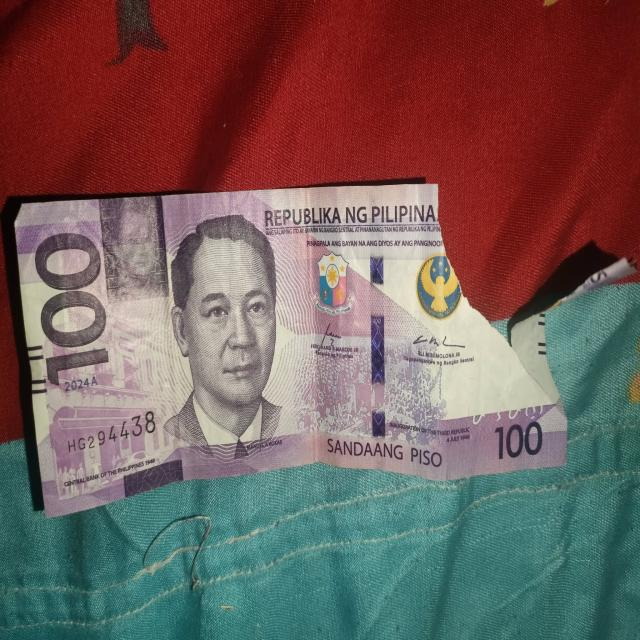broken: (8, 176, 638, 526)
torn: (429, 176, 640, 402)
